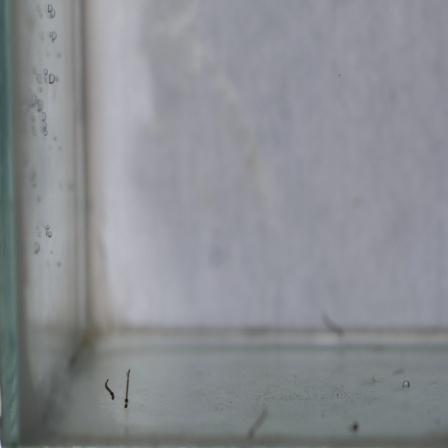Jentik-Nyamuk: (119, 365, 136, 413), (101, 376, 118, 406)
